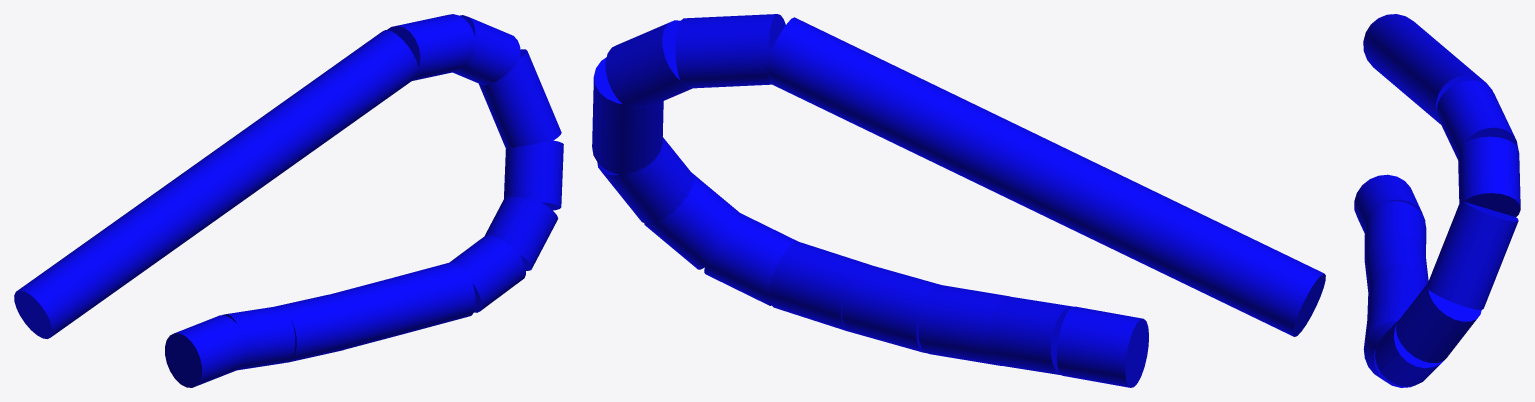
3 renders of one model, left to right at view 1: azimuth 30°, elevation 25°; view 2: azimuth 150°, elevation 25°; view 3: azimuth 270°, elevation 25°, orthographic. The views are drawn at different scales.
Parts seen in each view (by area): view 1: Cylinder(Clone) (×12); view 2: Cylinder(Clone) (×12); view 3: Cylinder(Clone) (×12).
Part boxes in pixels (<box>): Cylinder(Clone) (×12): <box>14,14,563,387</box>; Cylinder(Clone) (×12): <box>592,14,1325,387</box>; Cylinder(Clone) (×12): <box>1354,14,1520,387</box>.
Size of the model in its own units: 0.1125 by 0.0522 by 0.0271.
